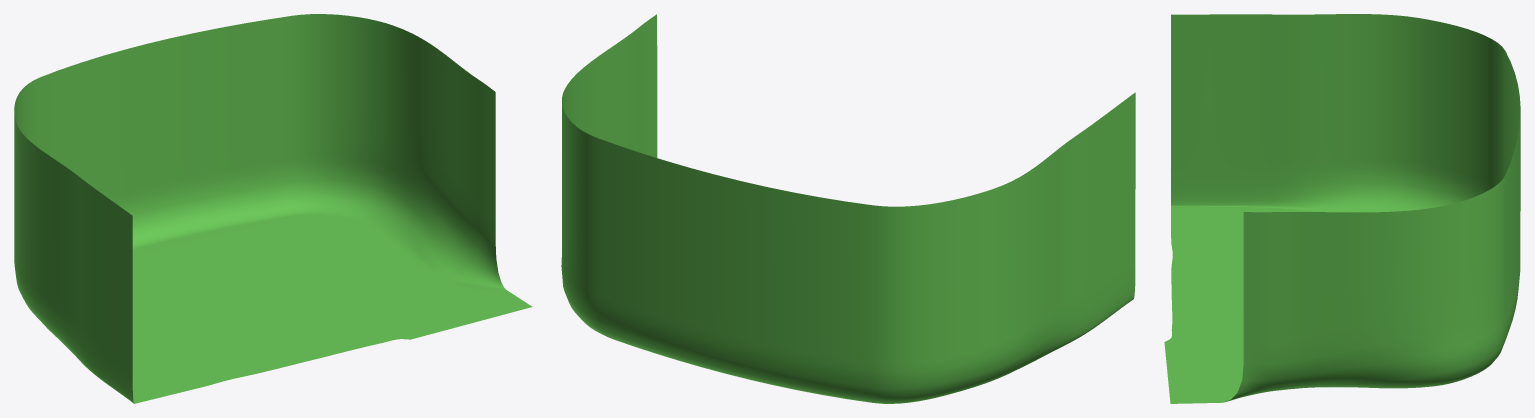
The model's file is wall_whole.FBX.
3 views of the same model, side by side, from view 1: azimuth 30°, elevation 25°; view 2: azimuth 150°, elevation 25°; view 3: azimuth 270°, elevation 25° (orthographic). The views are drawn at different scales.
Parts seen in each view (by area): view 1: Walls_2; view 2: Walls_2; view 3: Walls_2.
Part boxes in pixels (left/top/right/bottom): Walls_2: left=14, top=14, right=532, bottom=403; Walls_2: left=561, top=14, right=1135, bottom=403; Walls_2: left=1164, top=14, right=1520, bottom=403.
Size of the model in its own units: 815 by 367 by 618.
